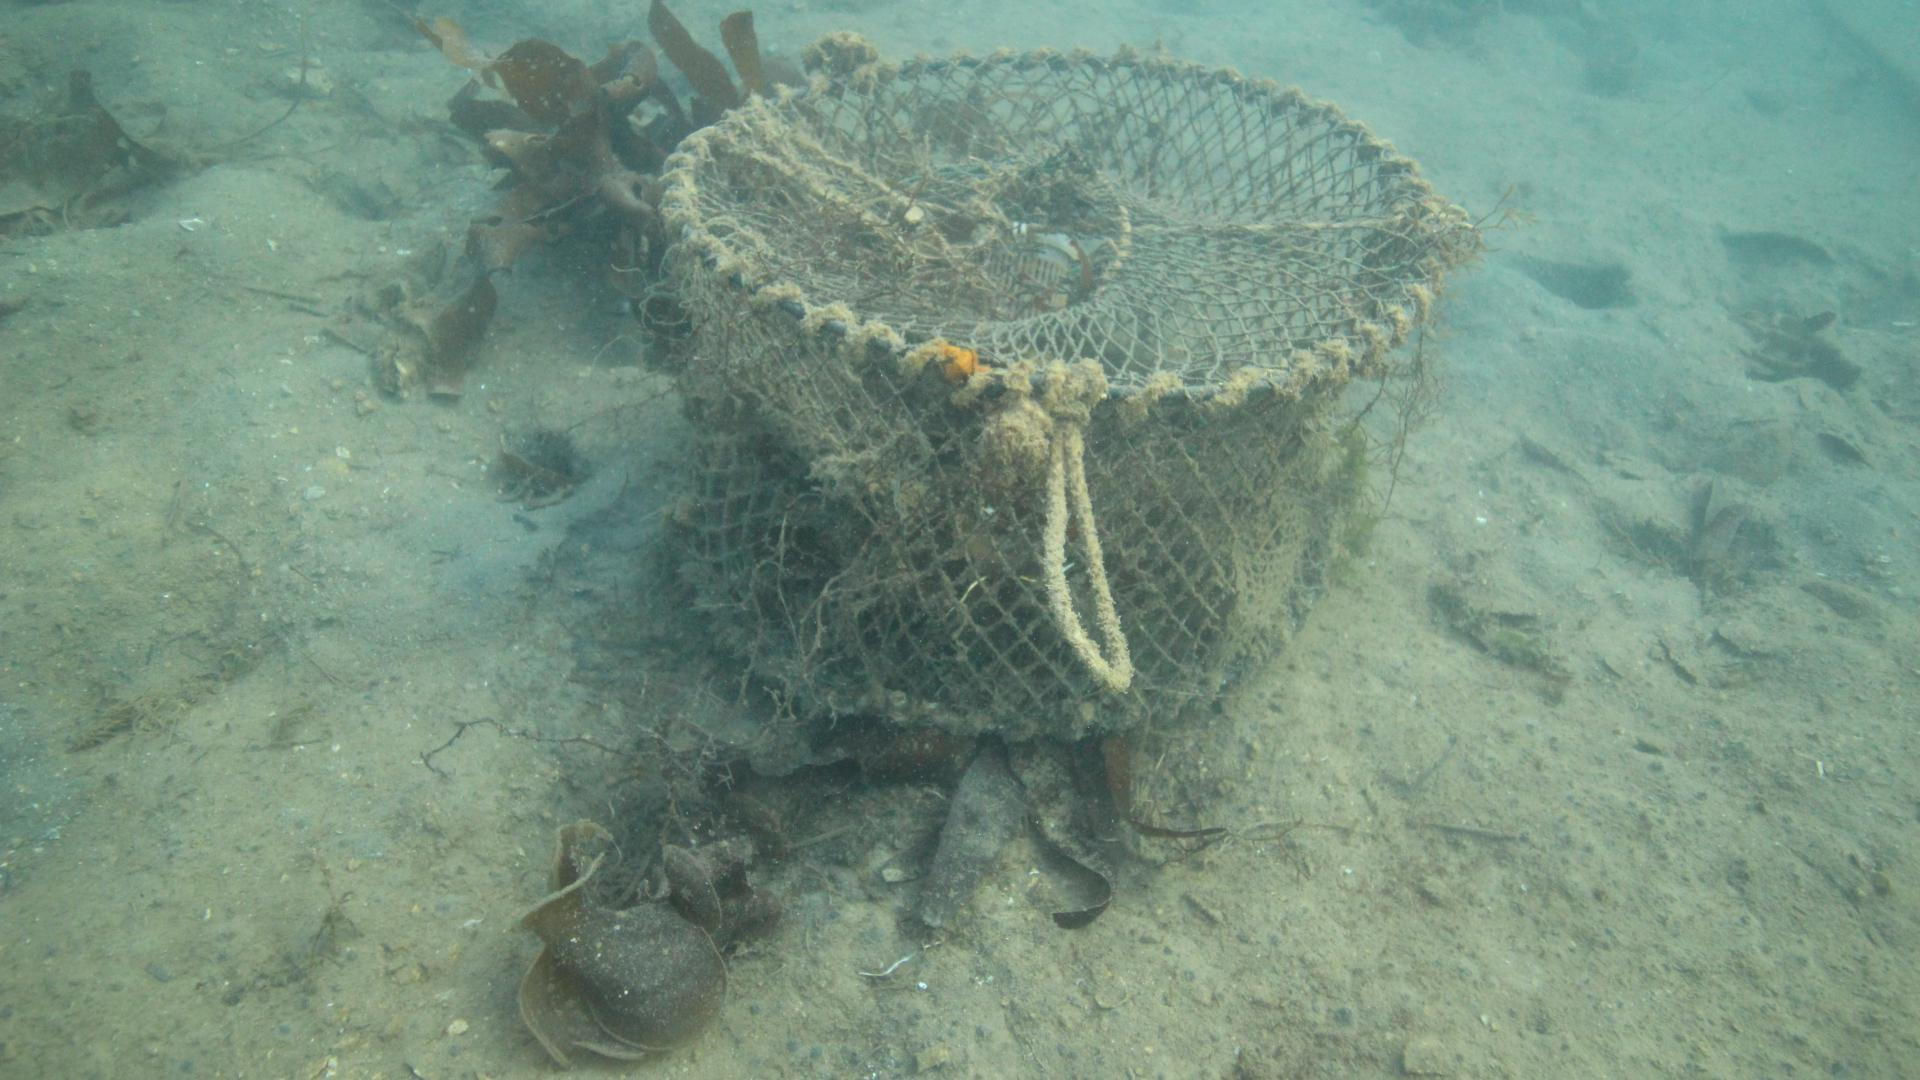circular fish trap: (655, 46, 1447, 737)
